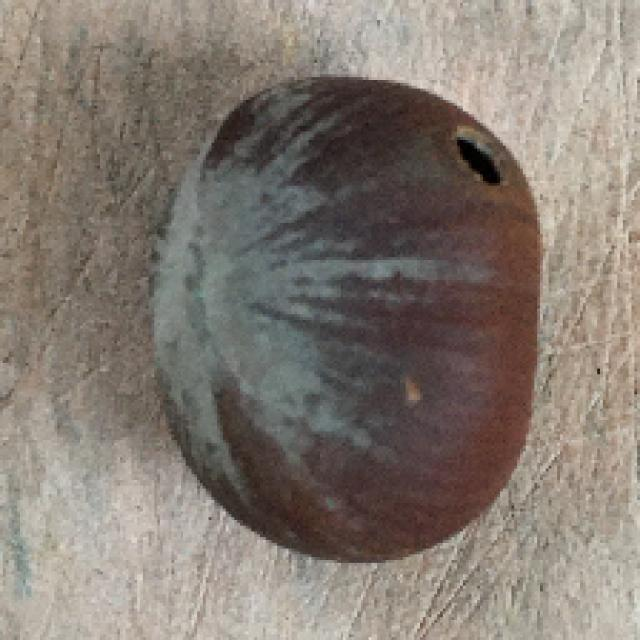damagedHazelnut: (145, 62, 553, 562)
